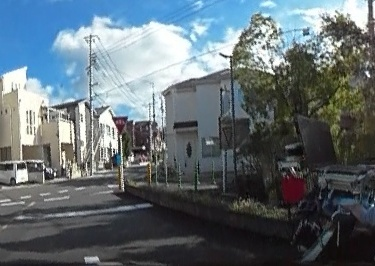person: (344, 52, 375, 265)
